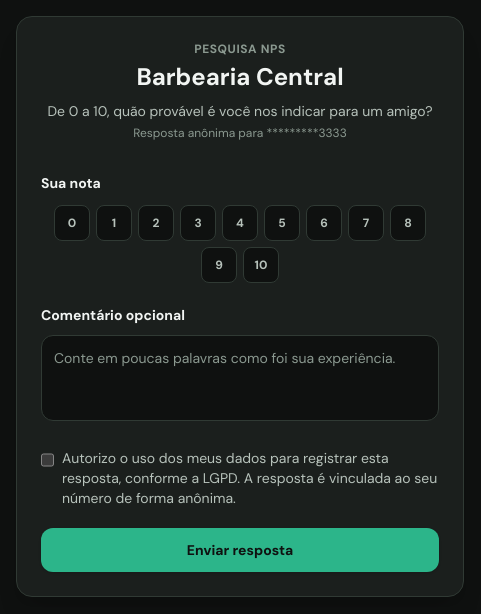
Test: PublicNpsPage › carrega a pesquisa, envia nota com consentimento e agradece
expect the heading "Barbearia Central" is shown: met, box [136,61,344,92]
expect the text "Resposta anônima para *********3333" is shown: met, box [133,125,347,141]
What coordinates should you click on to do the following:
click the button named "Nota 9"
I would click on:
 (219, 265)
Its box is [201,247,237,283].
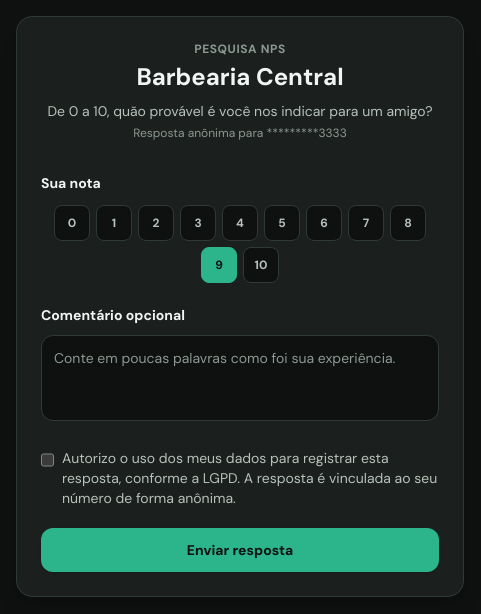
What coordinates should you click on to do the following:
click the checkbox
I would click on:
 (48, 460)
Its box is [41,452,54,468].
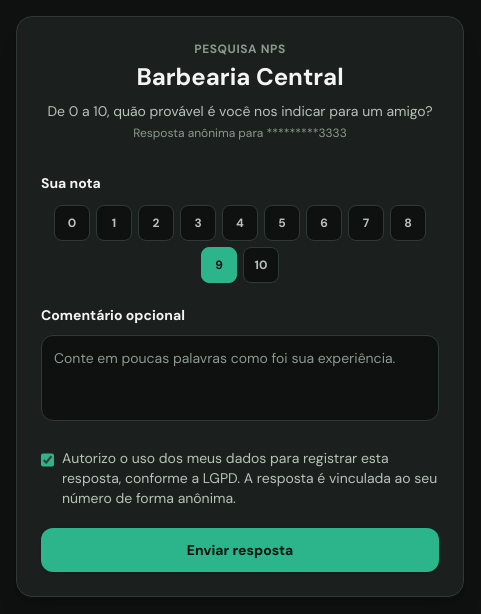
What coordinates should you click on to do the following:
click the button "Enviar resposta"
I would click on:
 (240, 550)
Its box is [41,528,439,572].
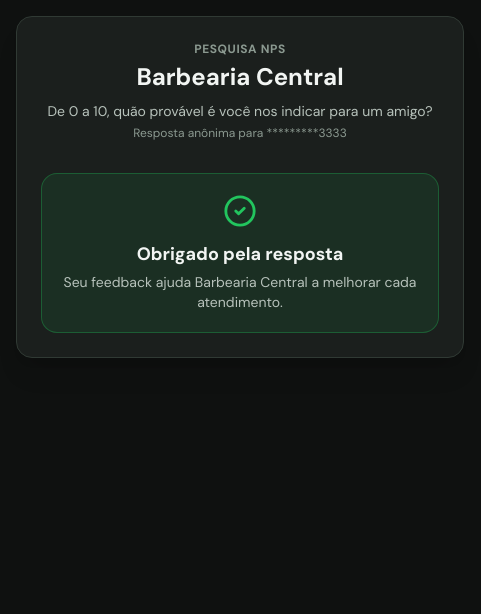
expect the heading "Obrigado pela resposta" is shown: met, box [137,242,343,266]
